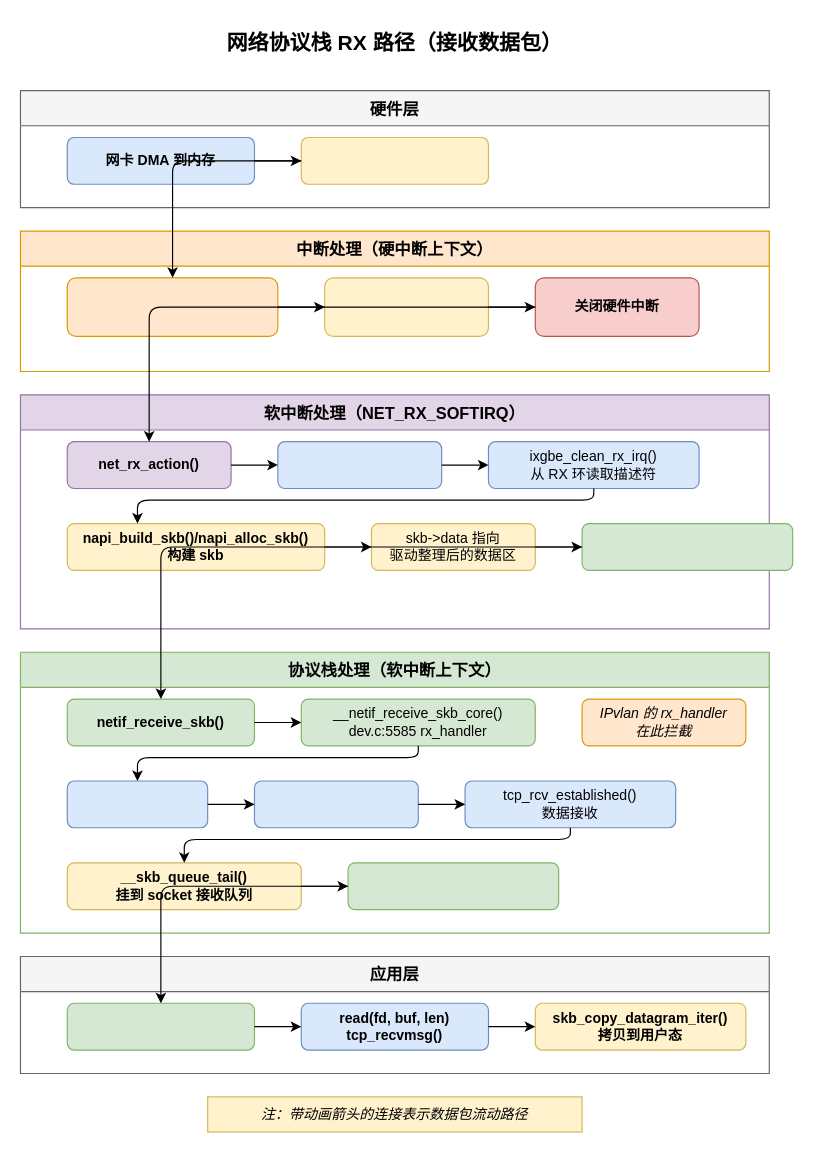
Some shapes in this 813 by 1152 pixel diagram are drawn without their labels. Here are the shapes that lost their labels. From the top down, the box of each, then its label:
(300, 136, 488, 184): 产生硬件中断
(66, 277, 278, 336): ixgbe_msix_clean_rings() (驱动中断处理函数)
(324, 277, 488, 336): napi_schedule() 调度 NAPI
(277, 441, 442, 488): napi->poll() (驱动 poll 函数)
(581, 522, 793, 570): napi_gro_receive(skb) 提交到协议栈
(66, 780, 208, 828): ip_rcv() IP 层处理
(253, 780, 418, 828): tcp_v4_rcv() TCP 层处理
(347, 862, 559, 910): sk->sk_data_ready() 唤醒 epoll
(66, 1002, 254, 1050): epoll_wait() 返回
